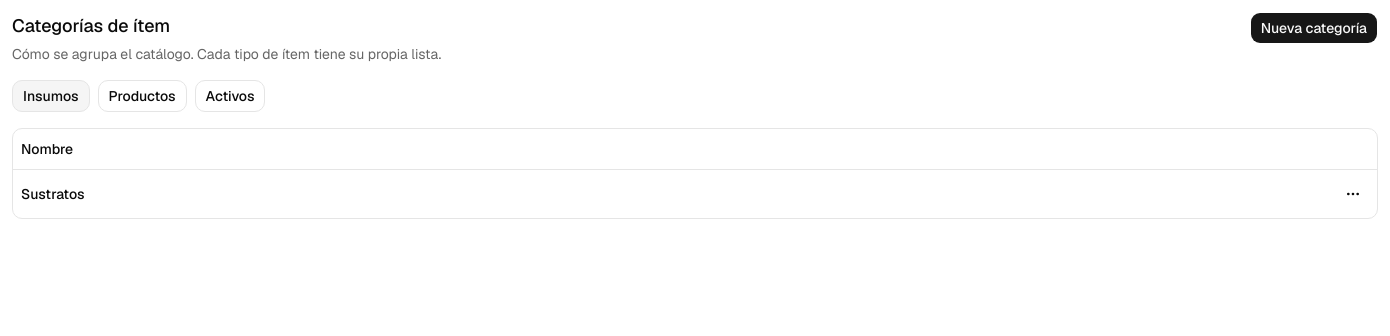
Test: ItemCategoriesSection › la fila ofrece «Editar», «Atributos» y «Archivar» en su menú y ningún otro botón
Click the button named "Acciones de Sustratos": (1353, 194) [1337,178,1369,210]
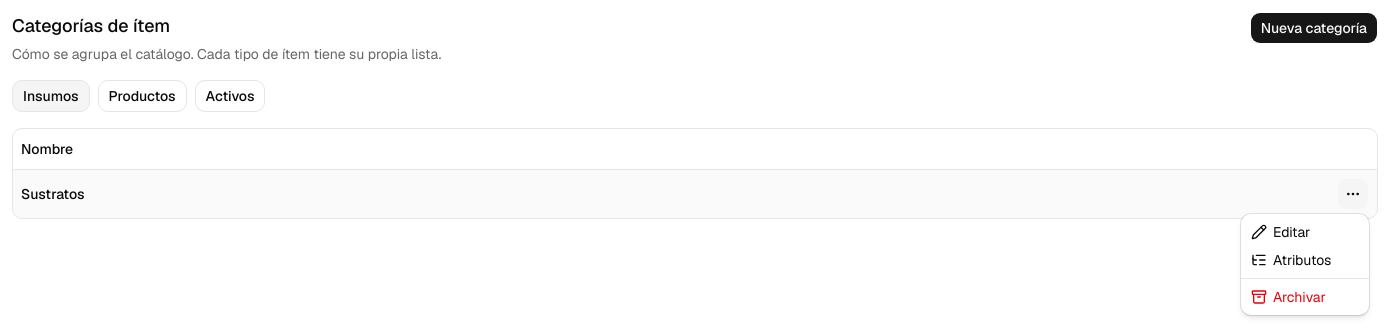
Expected: the menu items read "Editar", "Atributos", "Archivar", in this order, [1251,223,1310,241]; [1251,251,1331,269]; [1251,288,1326,306]
